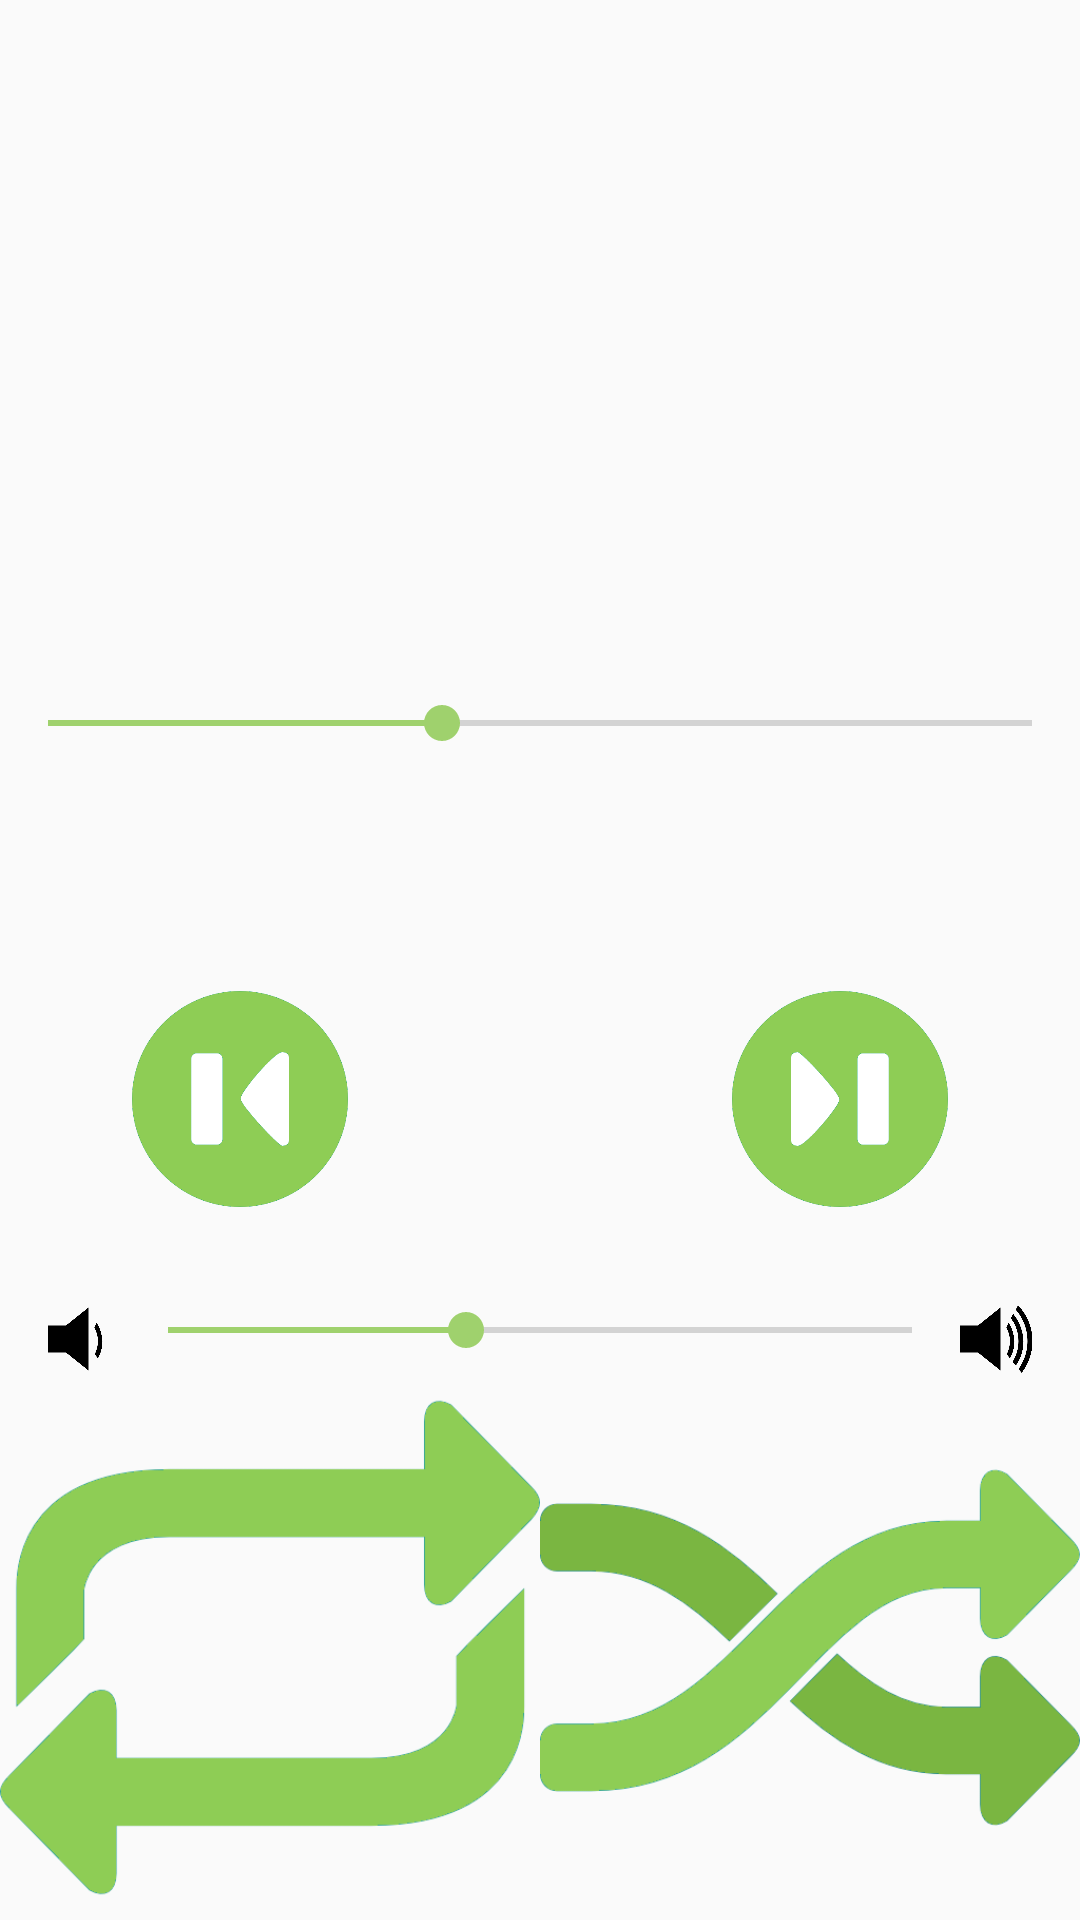

Locate icon controls on the screen. Image size 1080px×1920px, boxes as (x1=x1, y1=y1, x2=x2, y2=y2).
next: (x1=732, y1=991, x2=948, y2=1207)
previous: (x1=132, y1=991, x2=348, y2=1207)
